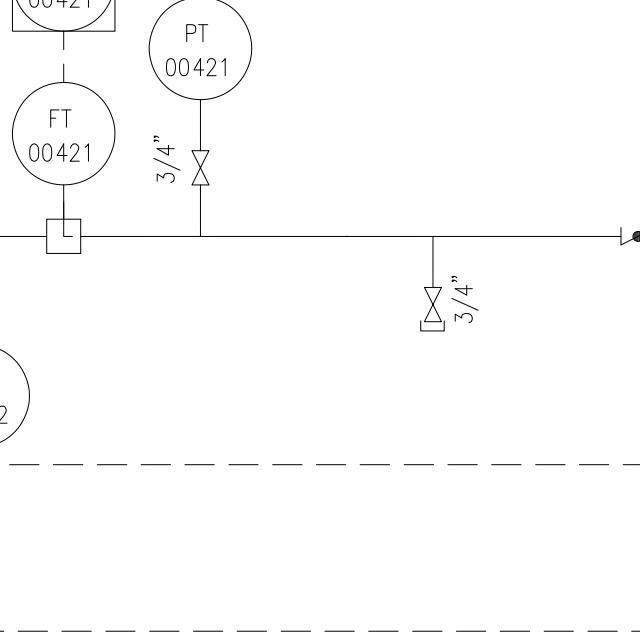EC: (415, 255, 452, 337)
GV: (190, 145, 214, 193), (422, 282, 443, 326)
